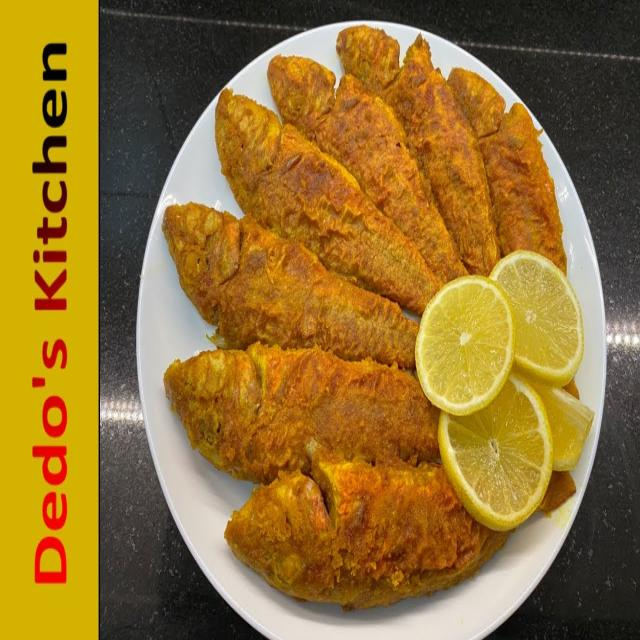Peixe: (160, 24, 570, 612), (223, 448, 509, 612), (161, 199, 421, 370), (162, 340, 442, 482)
